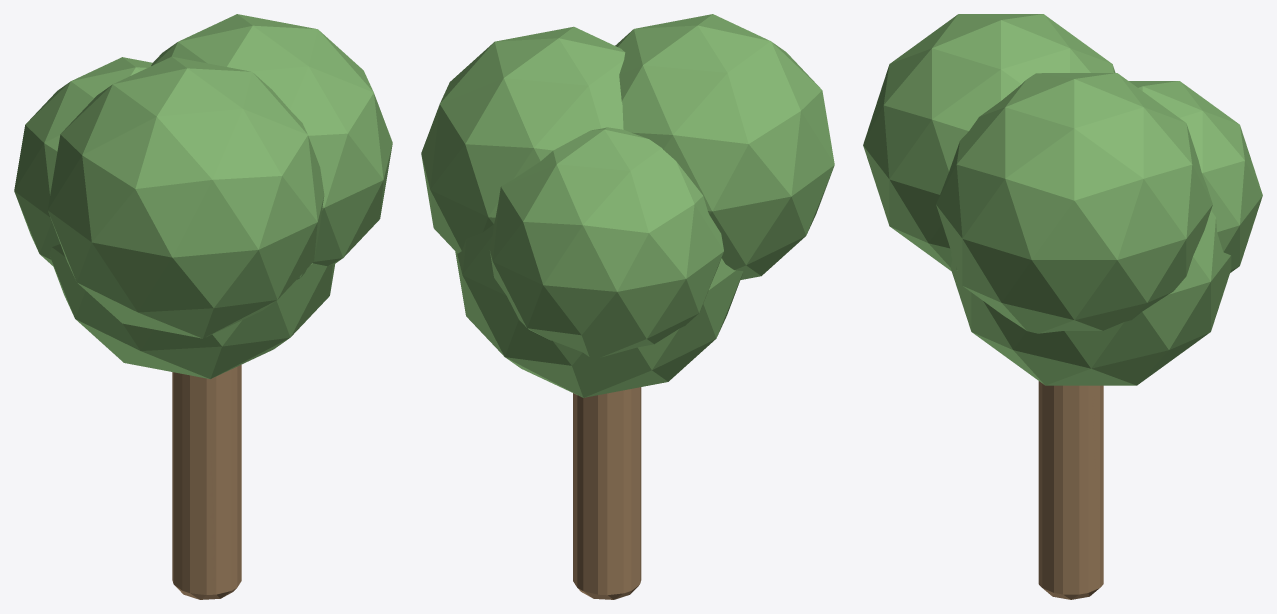
Rendered from tree.glb.
The picture shows the model from 3 angles, left to right: view 1: azimuth 30°, elevation 25°; view 2: azimuth 150°, elevation 25°; view 3: azimuth 270°, elevation 25°; orthographic projection. The views are drawn at different scales.
Parts seen in each view (by area): view 1: tree; view 2: tree; view 3: tree.
Part boxes in pixels (box(x1,y1,x2,y2)): tree: box(14, 14, 392, 599); tree: box(421, 14, 834, 599); tree: box(863, 14, 1262, 599).
Bounding box in the file's own units: 0.6309 × 0.9976 × 0.6666.
